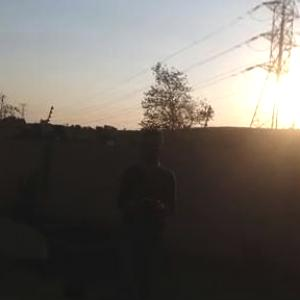follow: (109, 126, 180, 299)
